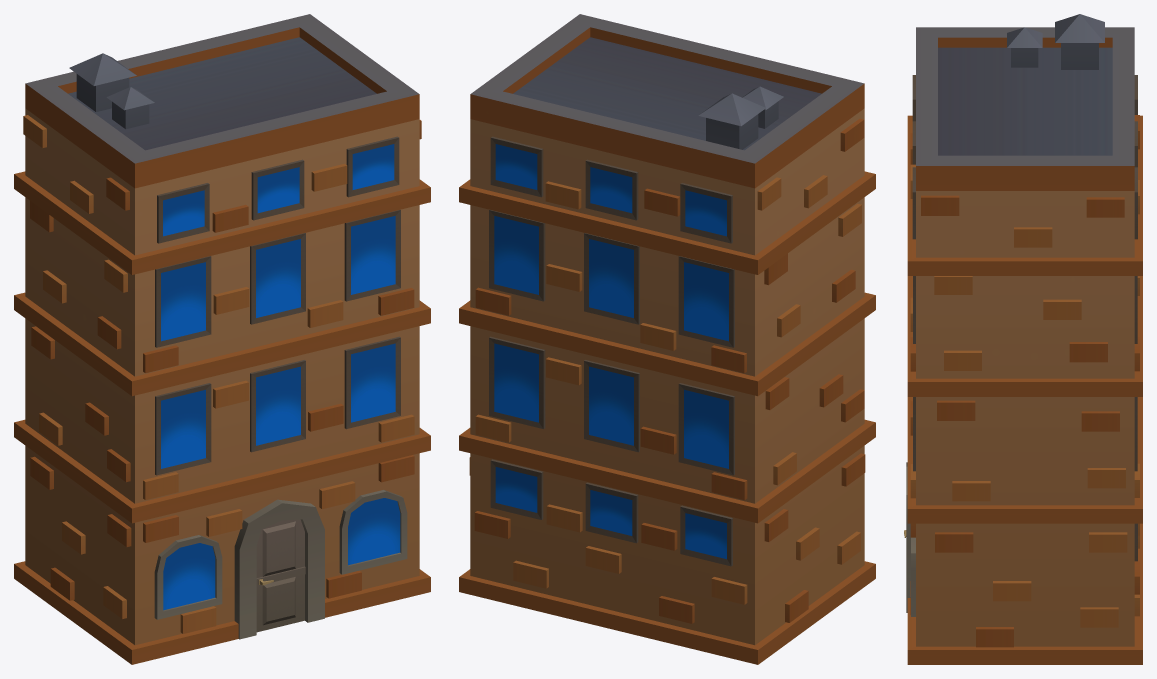
File: SM_House_14.FBX
3 renders of one model, left to right at view 1: azimuth 30°, elevation 25°; view 2: azimuth 150°, elevation 25°; view 3: azimuth 270°, elevation 25°, orthographic.
Parts seen in each view (by area): view 1: SM_House_14; view 2: SM_House_14; view 3: SM_House_14.
Part boxes in pixels (x1,y1,x2,y2): SM_House_14: [14, 14, 430, 664]; SM_House_14: [459, 14, 875, 664]; SM_House_14: [904, 14, 1142, 664].
Size of what is drawn, in the model's own units: 630 by 437 by 1077.
